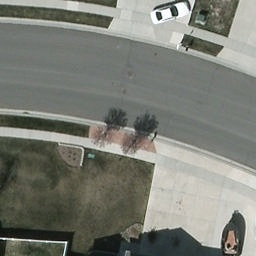car: (151, 2, 190, 24)
